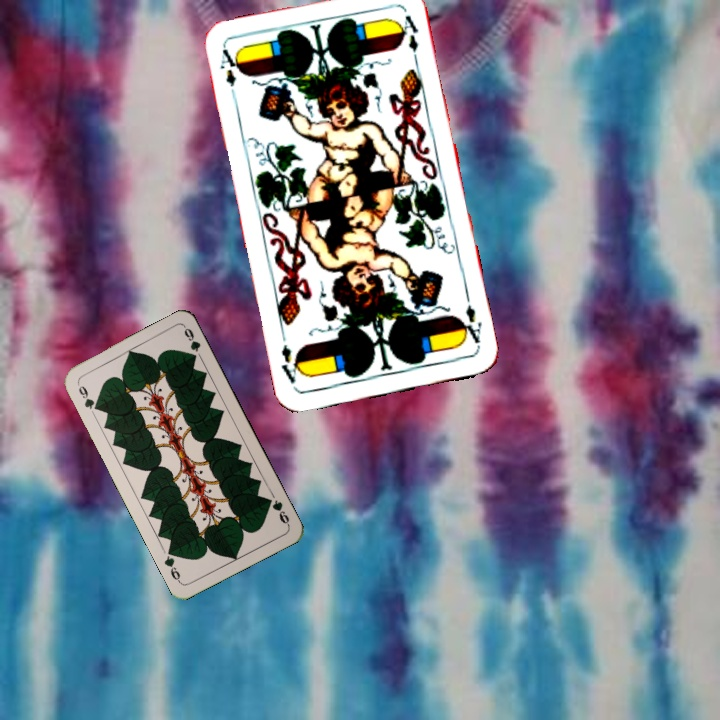EA: (216, 44, 243, 103), (456, 300, 484, 349)
G9: (262, 494, 292, 528), (73, 379, 102, 413)
